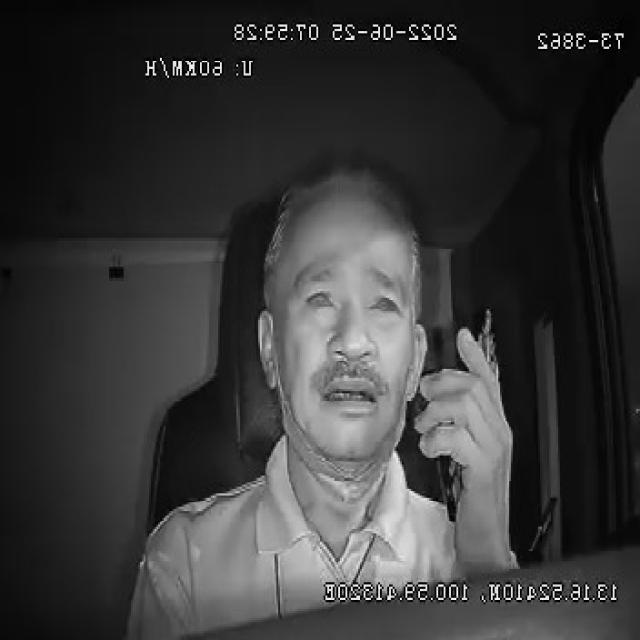phone: (433, 302, 503, 525)
